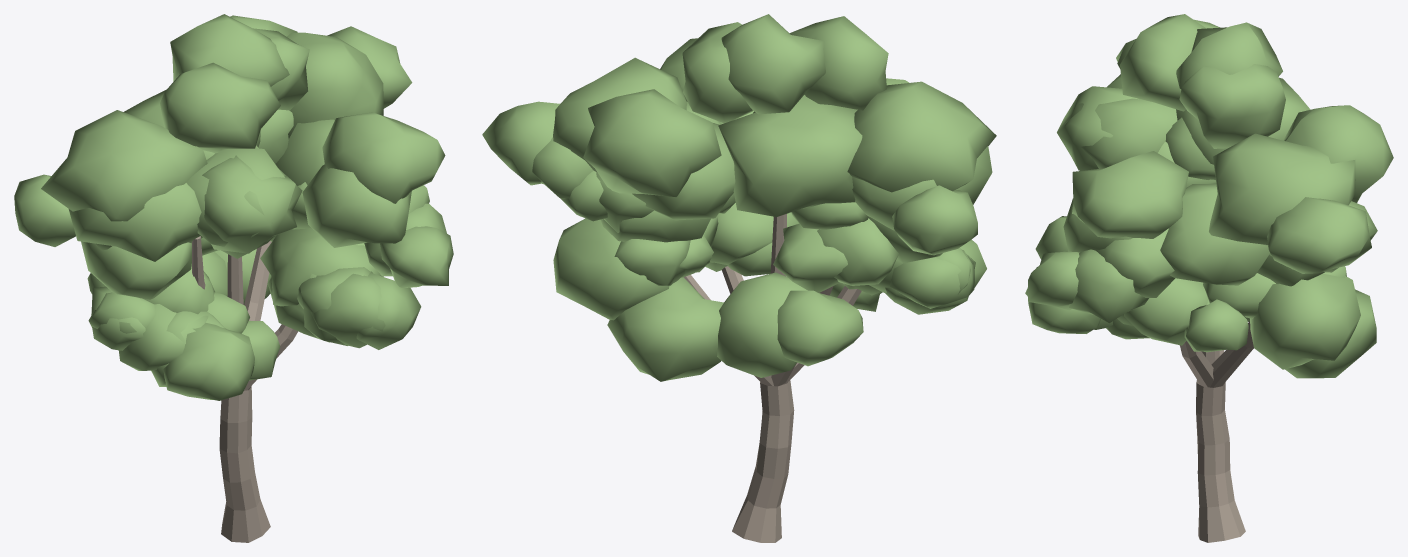
The model's file is Blender_Cottonwood_2.glb.
The picture shows the model from 3 angles, left to right: view 1: azimuth 30°, elevation 25°; view 2: azimuth 150°, elevation 25°; view 3: azimuth 270°, elevation 25°; orthographic projection. The views are drawn at different scales.
Parts seen in each view (by area): view 1: Blender_Cottonwood_2; view 2: Blender_Cottonwood_2; view 3: Blender_Cottonwood_2.
Boxes of the visible parts, bbox=[...] form: Blender_Cottonwood_2: bbox=[14, 14, 453, 542]; Blender_Cottonwood_2: bbox=[482, 14, 996, 542]; Blender_Cottonwood_2: bbox=[1025, 14, 1393, 542].
Size of the model in its own units: 21.54 by 24.72 by 16.27.
